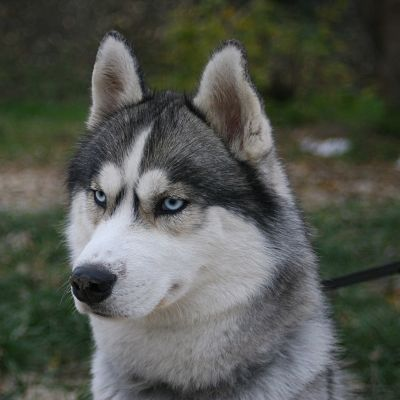husky: (47, 32, 337, 397)
